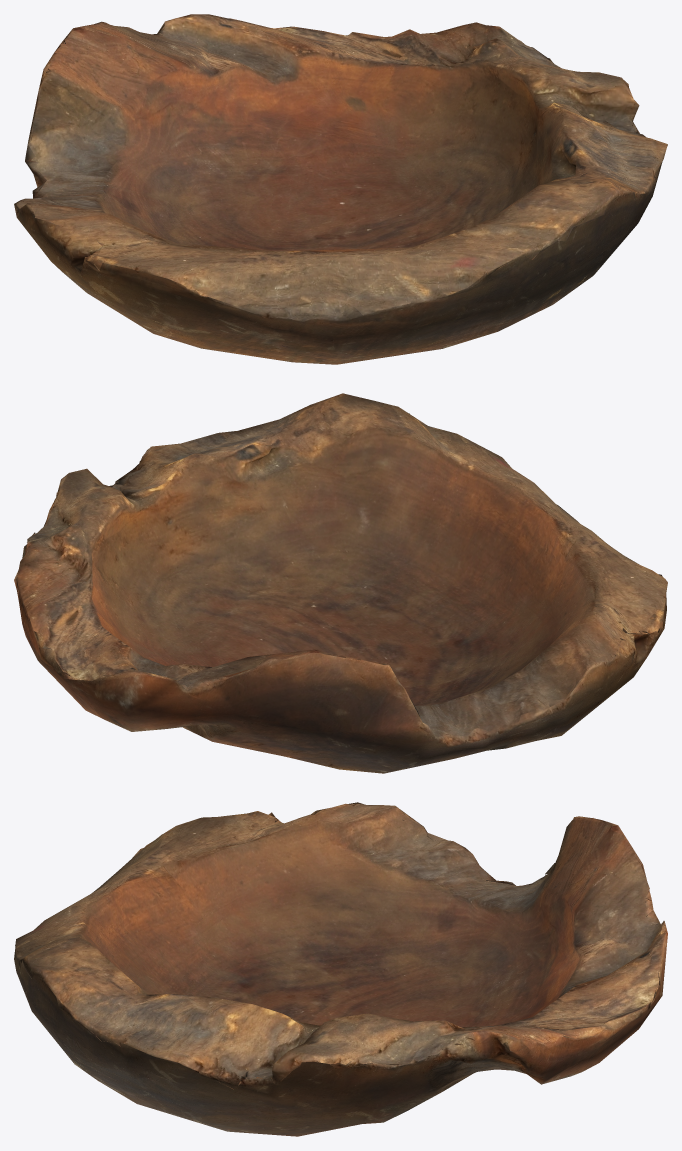
Rendered from wooden_bowl_01.glb.
3 renders of one model, top to bottom at view 1: azimuth 30°, elevation 25°; view 2: azimuth 150°, elevation 25°; view 3: azimuth 270°, elevation 25°, orthographic. The views are drawn at different scales.
Visible parts, largest first — view 1: wooden_bowl_01; view 2: wooden_bowl_01; view 3: wooden_bowl_01.
Boxes of the visible parts, x1,y1,x2,y2 form: wooden_bowl_01: (14,14,667,364); wooden_bowl_01: (14,393,667,773); wooden_bowl_01: (14,802,667,1136).
Bounding box in the file's own units: 0.3132 × 0.0931 × 0.3097.
Materials: 1 (1 with a texture image).
